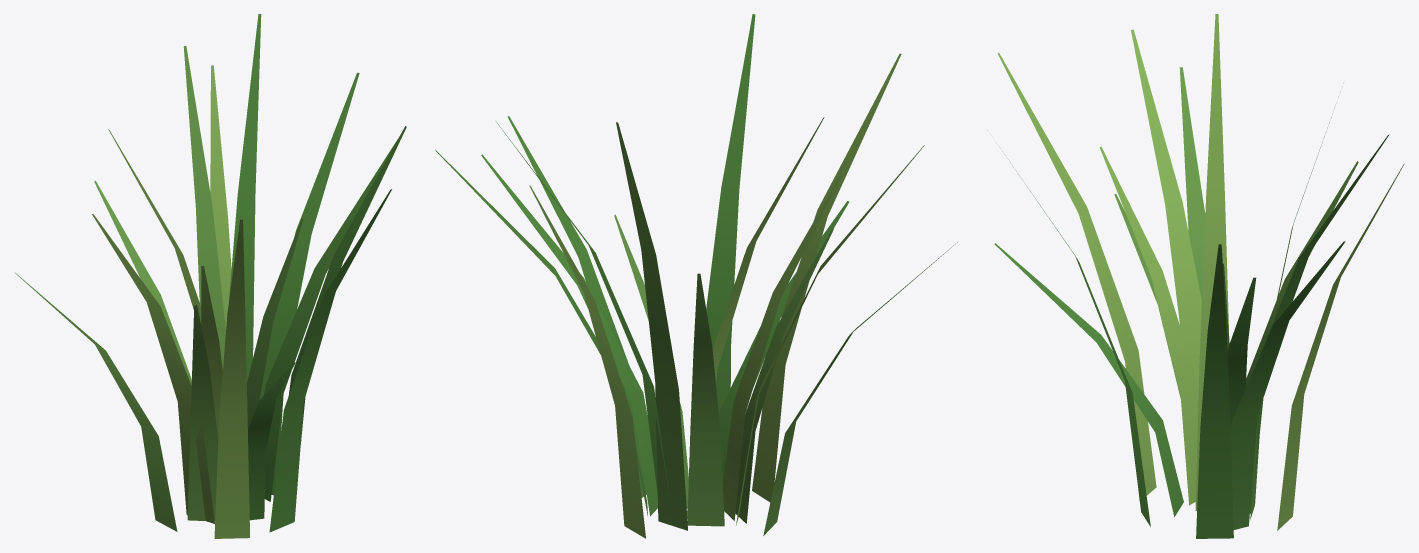
File: nature_grass.glb
The picture shows the model from 3 angles, left to right: view 1: azimuth 30°, elevation 25°; view 2: azimuth 150°, elevation 25°; view 3: azimuth 270°, elevation 25°; orthographic projection. The views are drawn at different scales.
Parts seen in each view (by area): view 1: nature_grass; view 2: nature_grass; view 3: nature_grass.
Part boxes in pixels (left/top/right/bottom): nature_grass: left=14, top=14, right=406, bottom=538; nature_grass: left=435, top=14, right=957, bottom=538; nature_grass: left=994, top=14, right=1404, bottom=538.
Size of the model in its own units: 0.681 by 0.6392 by 0.5507.
